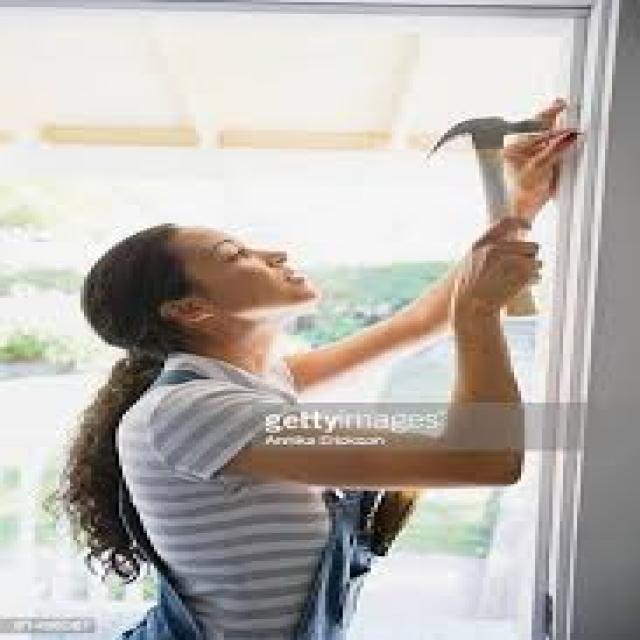hammer: (406, 112, 552, 328)
